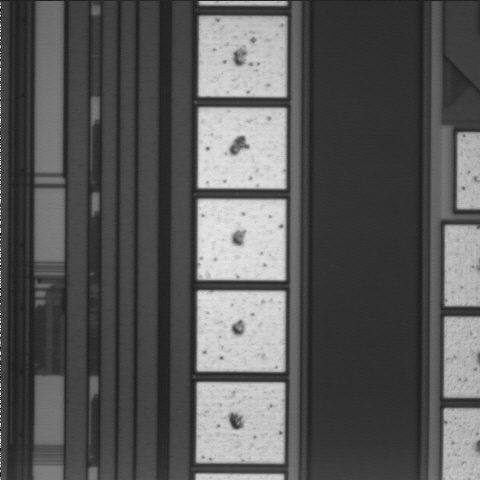pad: (198, 108, 286, 189), (197, 291, 285, 372), (198, 199, 285, 280), (199, 17, 286, 97), (197, 383, 284, 463)
